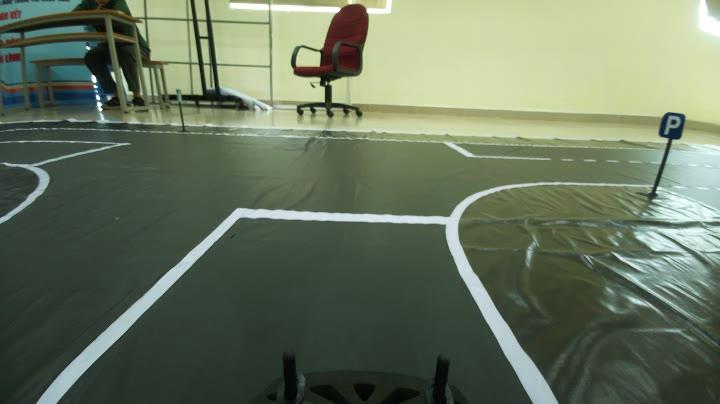parking: (657, 106, 688, 140)
